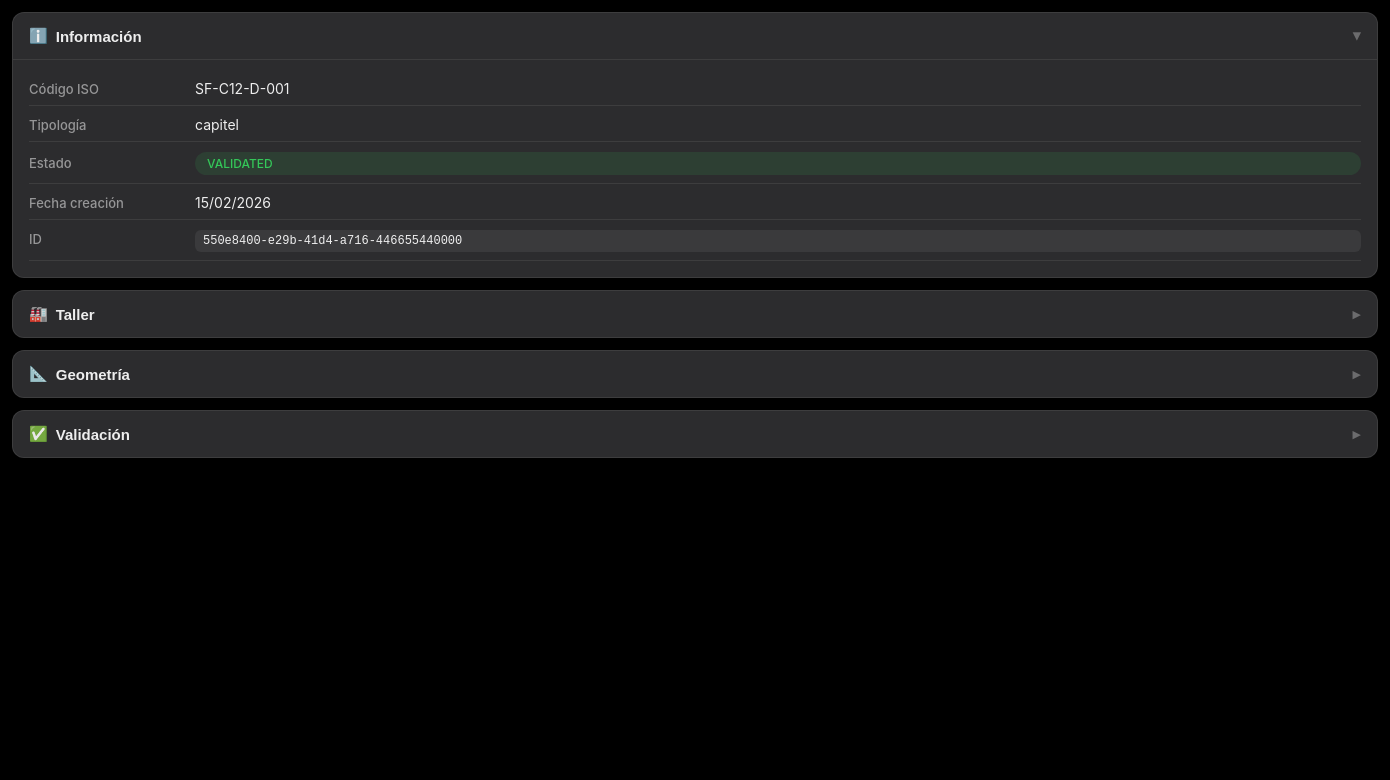
Test: PartMetadataPanel › Happy Path › HP-02: should toggle section expansion when header clicked
The width and height of the screenshot is (1390, 780).
Note: Click workshop header to expand
Click the button "🏭 Taller ▶": {"x": 75, "y": 314} x1=13 y1=291 x2=1377 y2=337
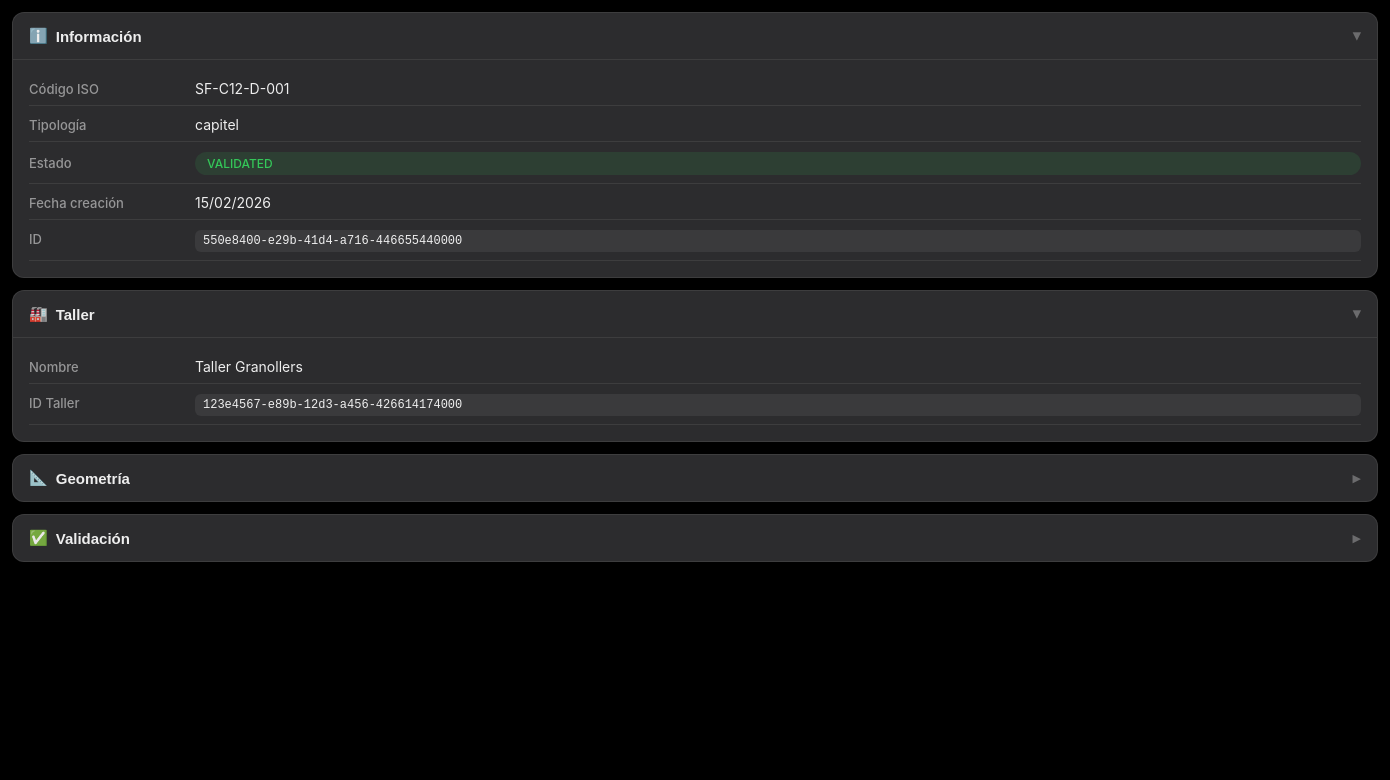
Now the button "🏭 Taller ▶" is expanded, box x1=13 y1=291 x2=1377 y2=337
Now the text "Taller Granollers" is shown, box x1=195 y1=358 x2=303 y2=375
